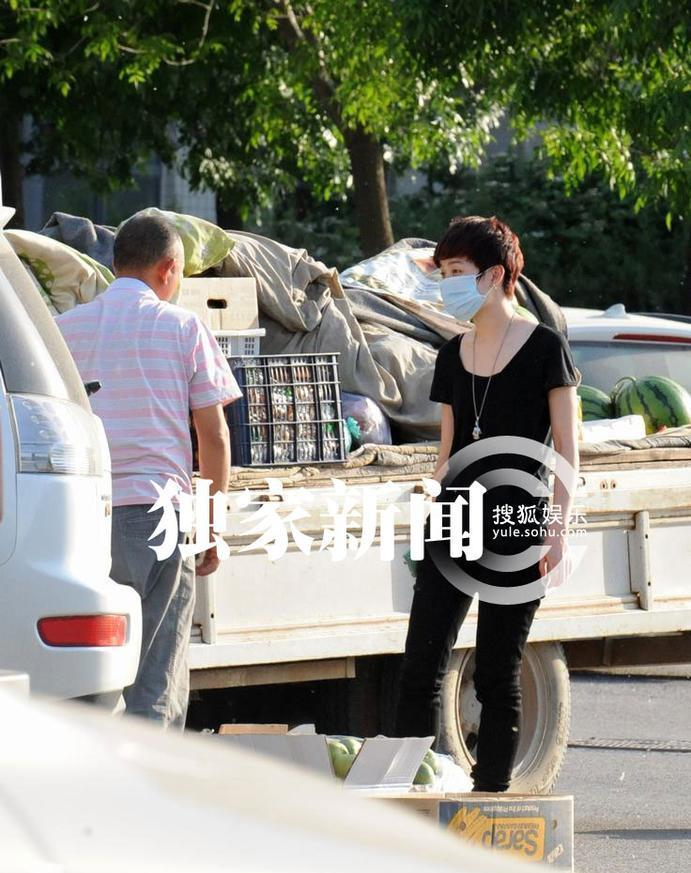face_mask: (439, 250, 486, 320)
